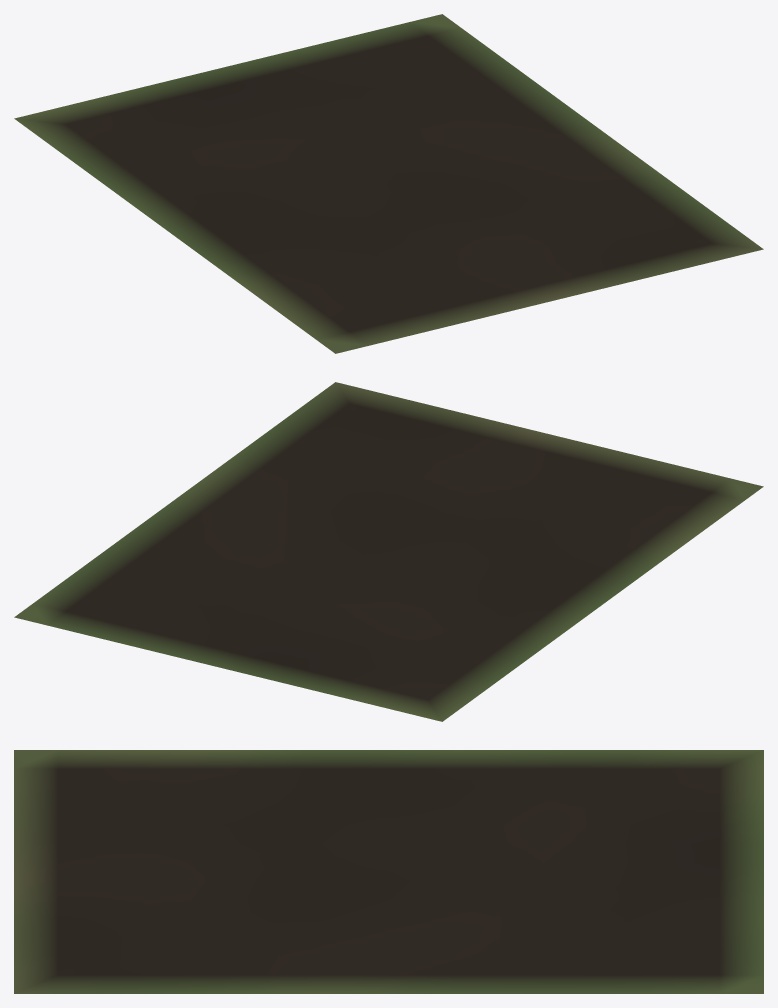
Rendered from ph_env_crypt_pit_cover.glb.
3 views of the same model, one above another, from view 1: azimuth 30°, elevation 25°; view 2: azimuth 150°, elevation 25°; view 3: azimuth 270°, elevation 25° (orthographic). The views are drawn at different scales.
Parts seen in each view (by area): view 1: ph_env_crypt_pit_cover; view 2: ph_env_crypt_pit_cover; view 3: ph_env_crypt_pit_cover.
Boxes of the visible parts, x1,y1,x2,y2 form: ph_env_crypt_pit_cover: [14, 14, 763, 353]; ph_env_crypt_pit_cover: [14, 382, 763, 721]; ph_env_crypt_pit_cover: [14, 750, 763, 993].
Bounding box in the file's own units: 2 × 0 × 2.6.
